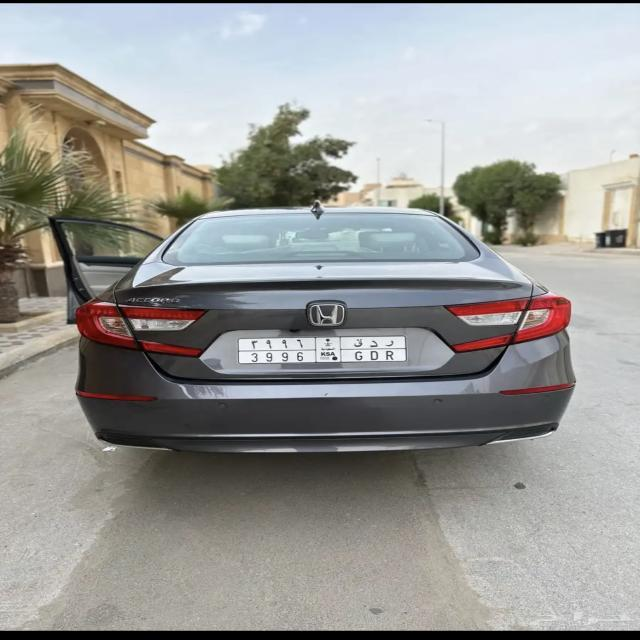license_plate: (237, 336, 410, 366)
